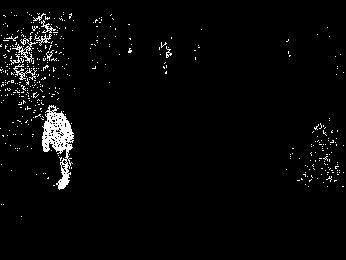person: (43, 105, 77, 190)
